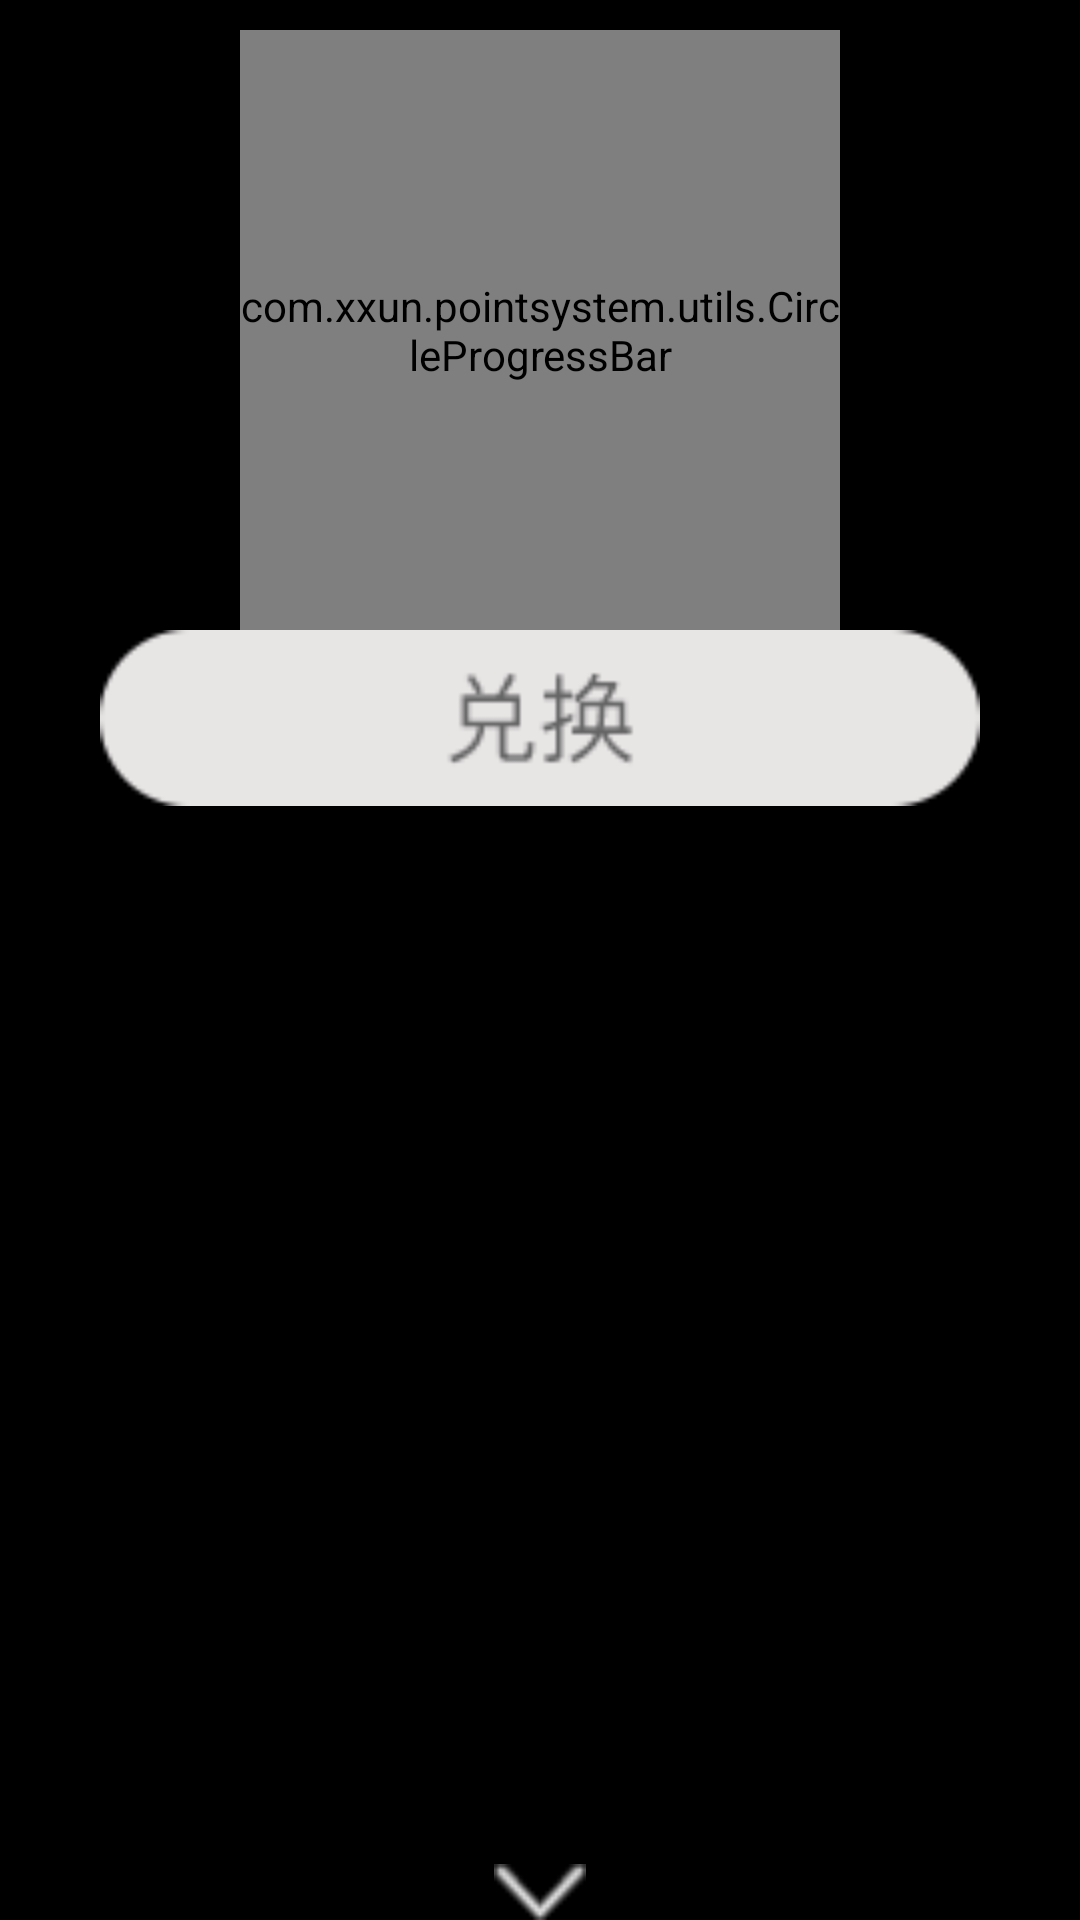

Point at icon controls on the screen. Image size 1080*1920, points as [x,y].
next: [540,1892]
